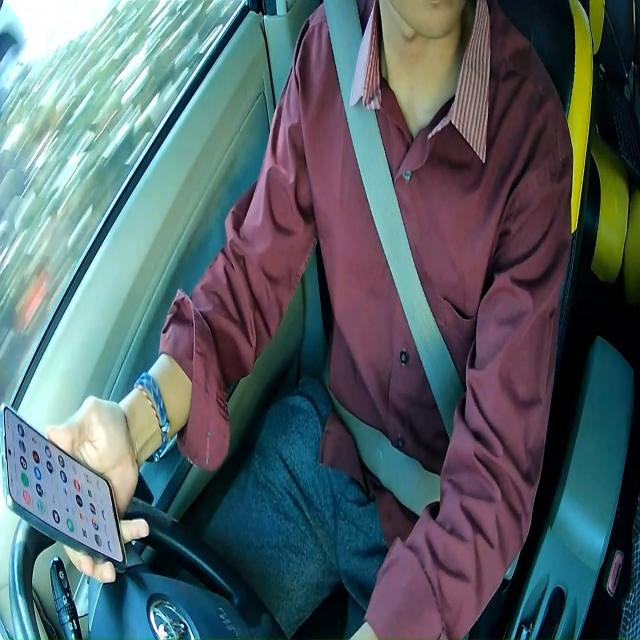phone: (2, 401, 130, 575)
